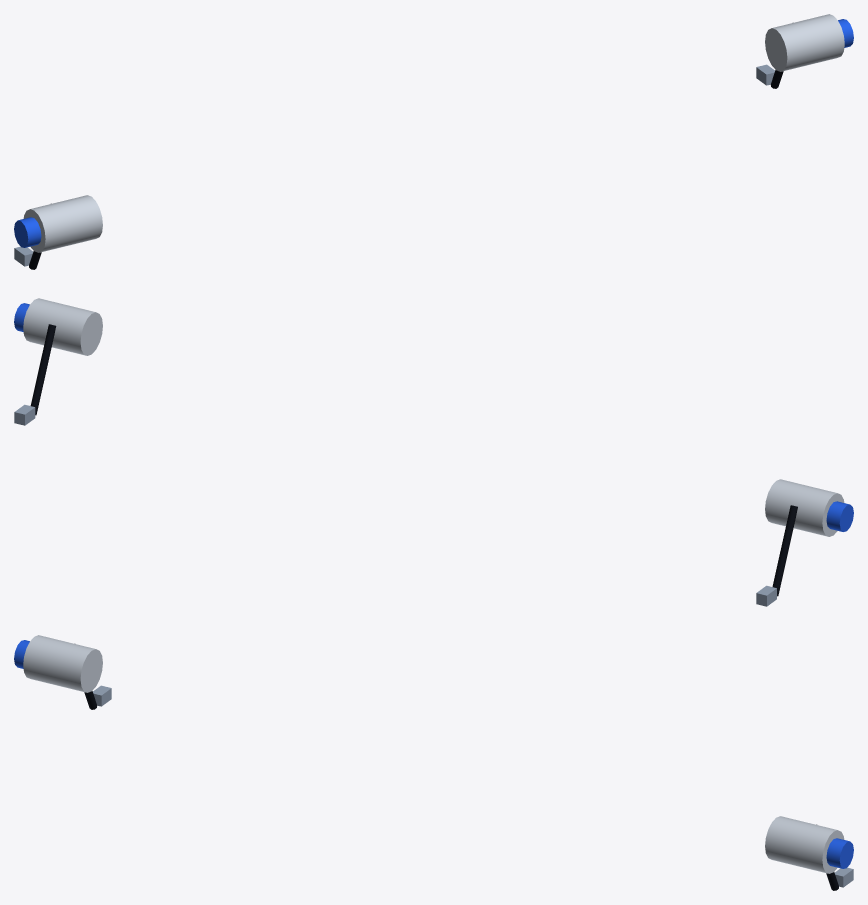
File: active_splitter_motors.glb
3 renders of one model, top to bottom at view 1: azimuth 30°, elevation 25°; view 2: azimuth 150°, elevation 25°; view 3: azimuth 330°, elevation 25°, orthographic.
Parts seen in each view (by area): view 1: Active_Splitter_Motors_Assembly; view 2: Active_Splitter_Motors_Assembly; view 3: Active_Splitter_Motors_Assembly.
Boxes of the visible parts, bbox=[...] form: Active_Splitter_Motors_Assembly: bbox=[14, 14, 853, 269]; Active_Splitter_Motors_Assembly: bbox=[14, 298, 853, 606]; Active_Splitter_Motors_Assembly: bbox=[14, 635, 853, 890].
Size of the model in its own units: 0.935 by 0.0943 by 0.107.
